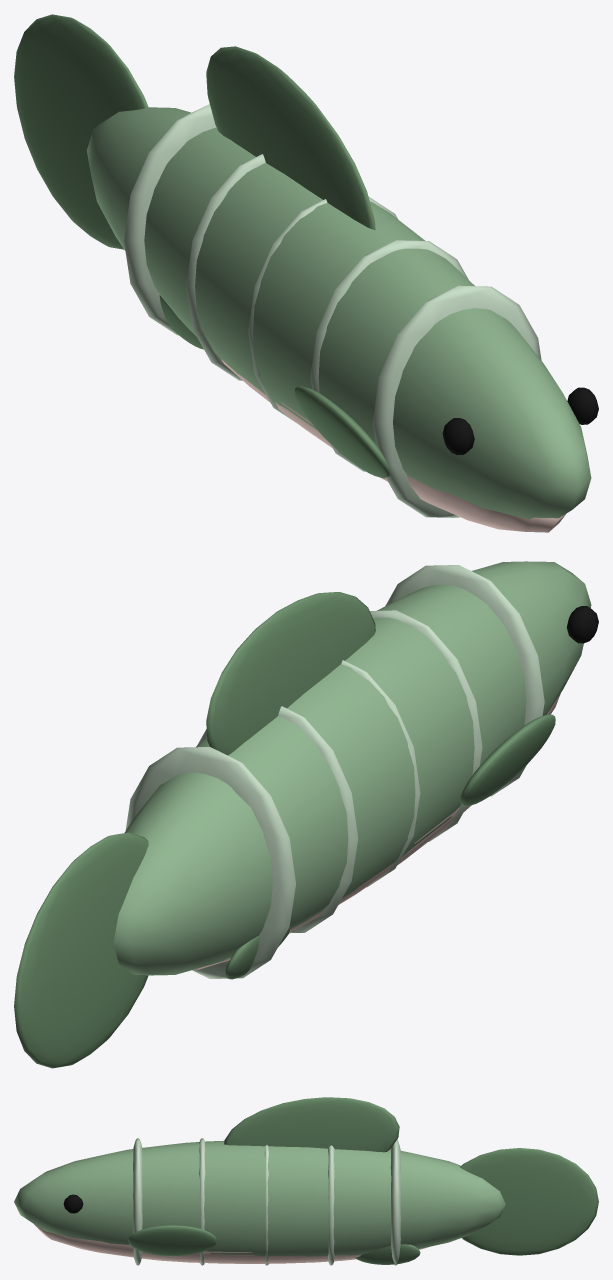
The model's file is trout.glb.
3 renders of one model, top to bottom at view 1: azimuth 30°, elevation 25°; view 2: azimuth 150°, elevation 25°; view 3: azimuth 270°, elevation 25°, orthographic. The views are drawn at different scales.
Parts seen in each view (by area): view 1: trout; view 2: trout; view 3: trout.
Part boxes in pixels (x1=…): trout: x1=14, y1=14, x2=598, y2=532; trout: x1=14, y1=561, x2=598, y2=1068; trout: x1=14, y1=1097, x2=598, y2=1265.
Bounding box in the file's own units: 0.2268 × 0.3302 × 1.06.
